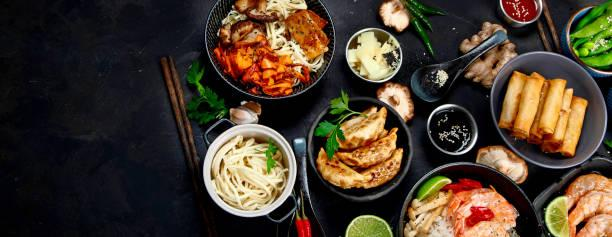Braised Crucian Carp: (488, 51, 605, 171), (204, 0, 332, 100), (305, 93, 411, 202), (398, 161, 540, 236), (201, 122, 298, 219)
